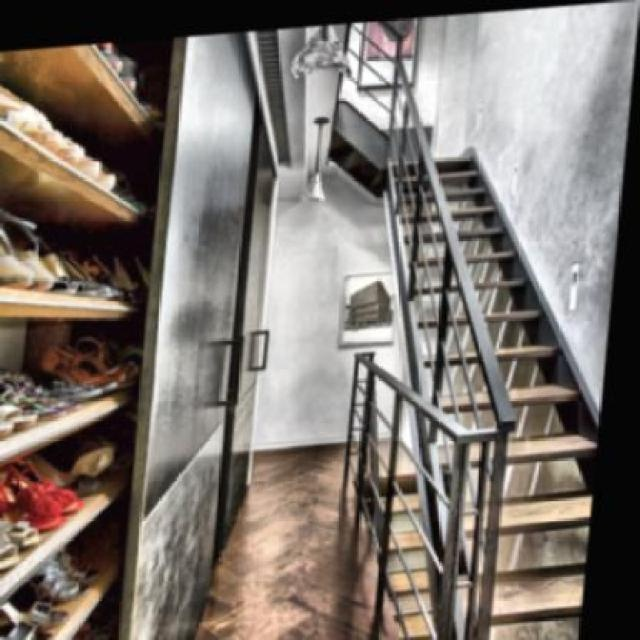stair: (385, 249, 622, 620)
